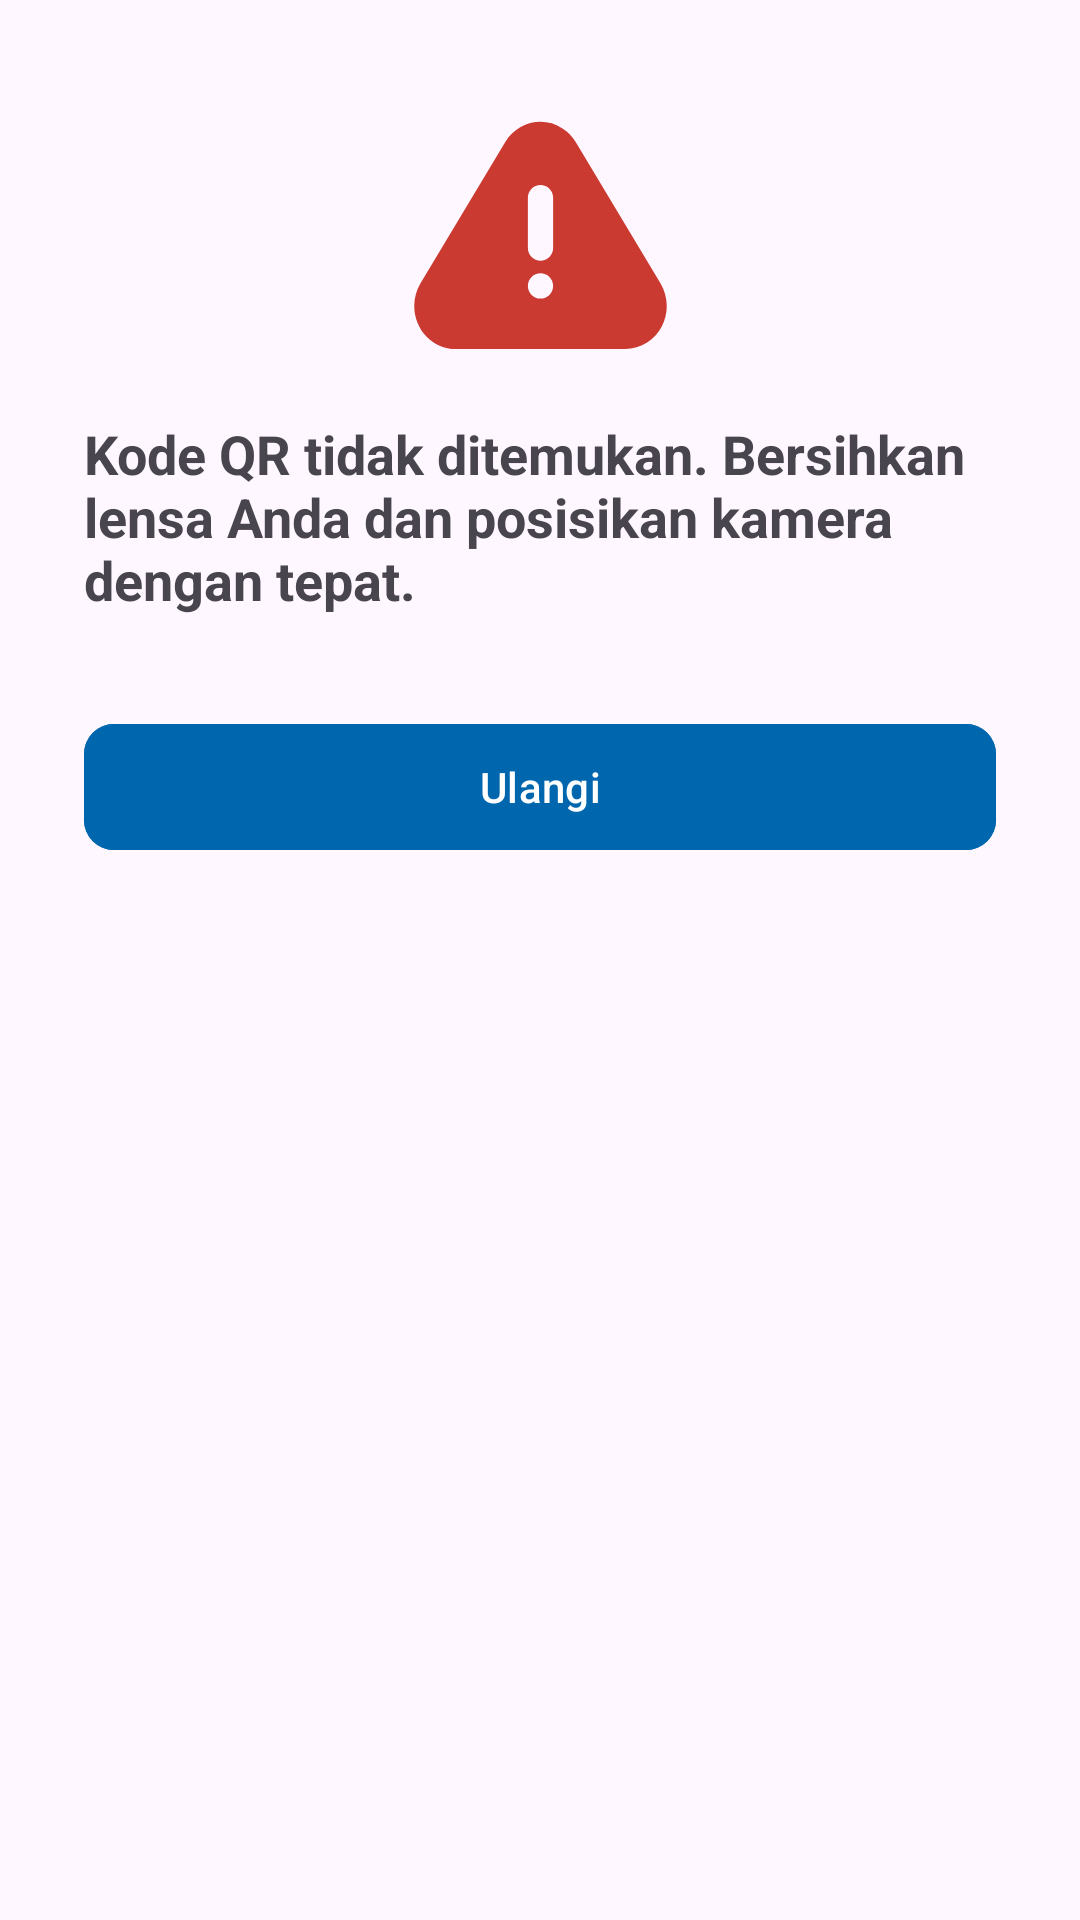

Locate icon controls on the screen. Image size 1080*1920, boxes as (x1, y1, x2, y2).
alert: (414, 121, 667, 349)
